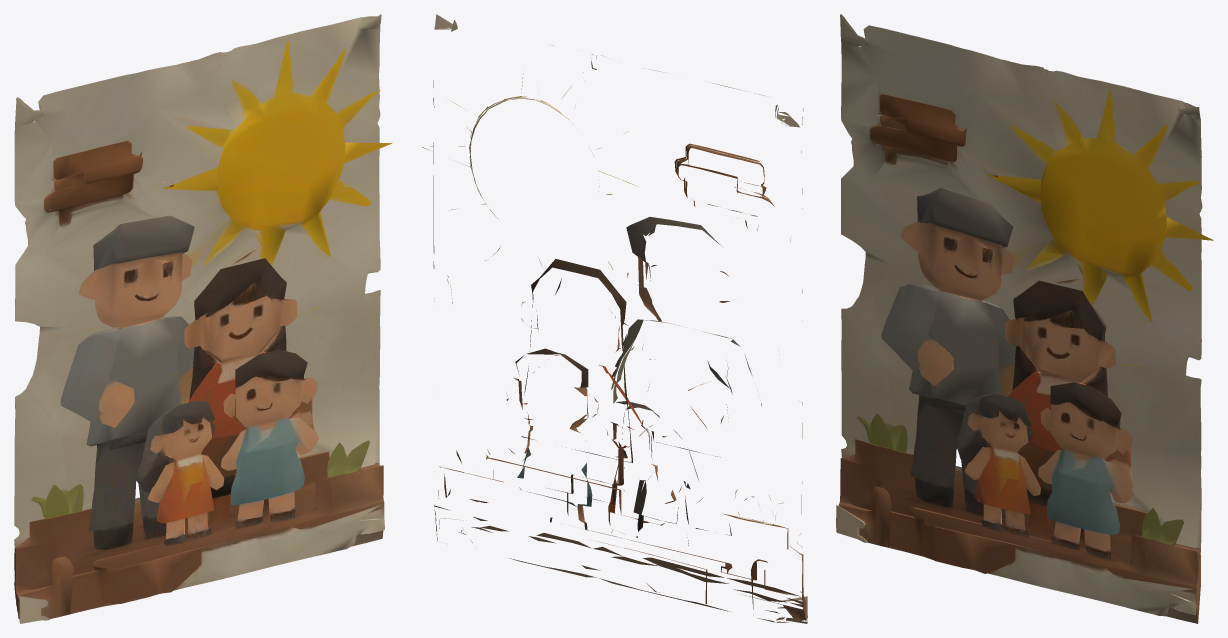
Rendered from poster_1_idle.glb.
3 renders of one model, left to right at view 1: azimuth 30°, elevation 25°; view 2: azimuth 150°, elevation 25°; view 3: azimuth 330°, elevation 25°, orthographic. The views are drawn at different scales.
Parts seen in each view (by area): view 1: tripo_node_221cc1d8-62ba-45ad-a621-0f215c0e879e; view 2: tripo_node_221cc1d8-62ba-45ad-a621-0f215c0e879e; view 3: tripo_node_221cc1d8-62ba-45ad-a621-0f215c0e879e.
Boxes of the visible parts, box(x1,y1,x2,y2) form: tripo_node_221cc1d8-62ba-45ad-a621-0f215c0e879e: box(14, 14, 392, 623); tripo_node_221cc1d8-62ba-45ad-a621-0f215c0e879e: box(422, 14, 807, 623); tripo_node_221cc1d8-62ba-45ad-a621-0f215c0e879e: box(836, 14, 1213, 623).
Bounding box in the file's own units: 0.5983 × 0.7999 × 0.02.
1 material, 1 textured.
